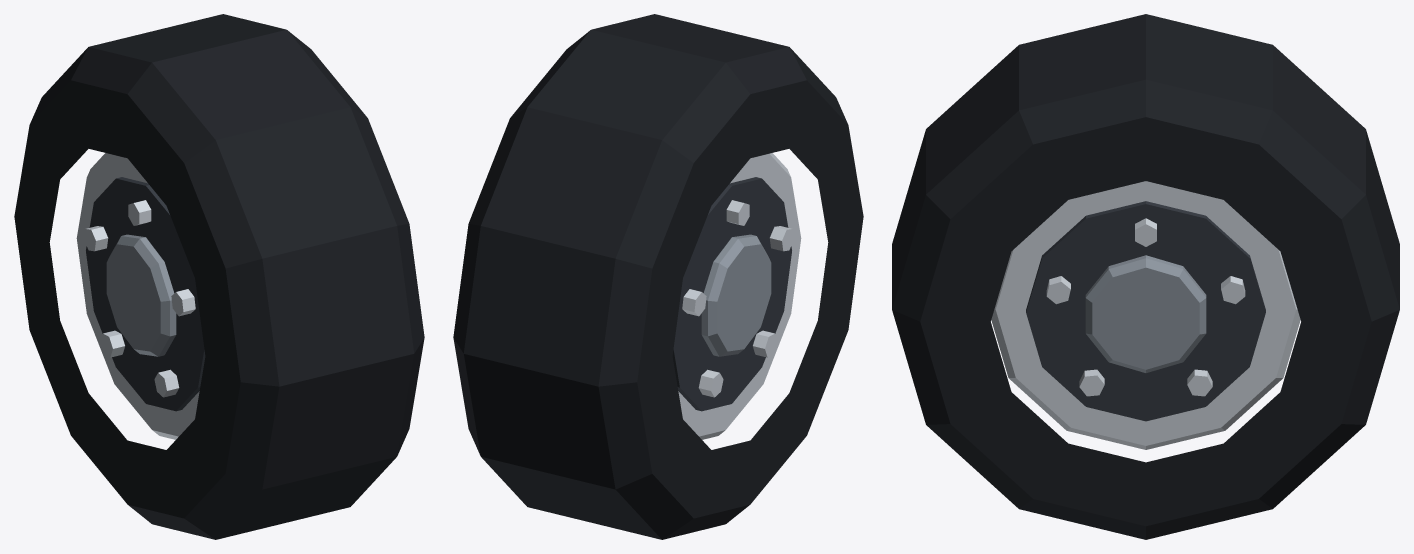
The model's file is offroad_wheel.glb.
3 views of the same model, side by side, from view 1: azimuth 30°, elevation 25°; view 2: azimuth 150°, elevation 25°; view 3: azimuth 270°, elevation 25° (orthographic).
Parts seen in each view (by area): view 1: offroad_wheel; view 2: offroad_wheel; view 3: offroad_wheel.
Part boxes in pixels (left/top/right/bottom): offroad_wheel: left=14, top=14, right=424, bottom=539; offroad_wheel: left=453, top=14, right=863, bottom=539; offroad_wheel: left=892, top=14, right=1399, bottom=539.
Bounding box in the file's own units: 0.3 × 0.72 × 0.72.
Materials: 1 (1 with a texture image).
